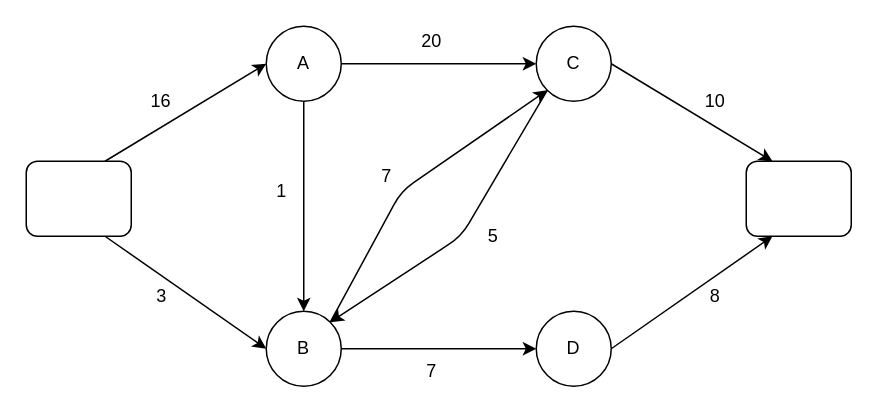
Image size: 878x413. Some labels were removed from this diagram. The shapes that lost their labels are listed below. From the top down, each one's box as (x1, y1, x2, y2) in pixels, then its label:
(25, 160, 131, 236): Server
(745, 160, 851, 236): Client
